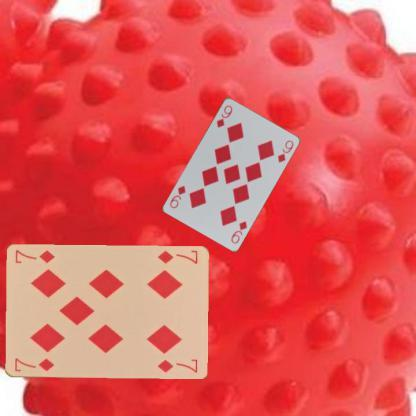7d: (12, 356, 56, 374), (155, 248, 199, 266)
9d: (228, 218, 249, 245), (214, 102, 234, 129)
